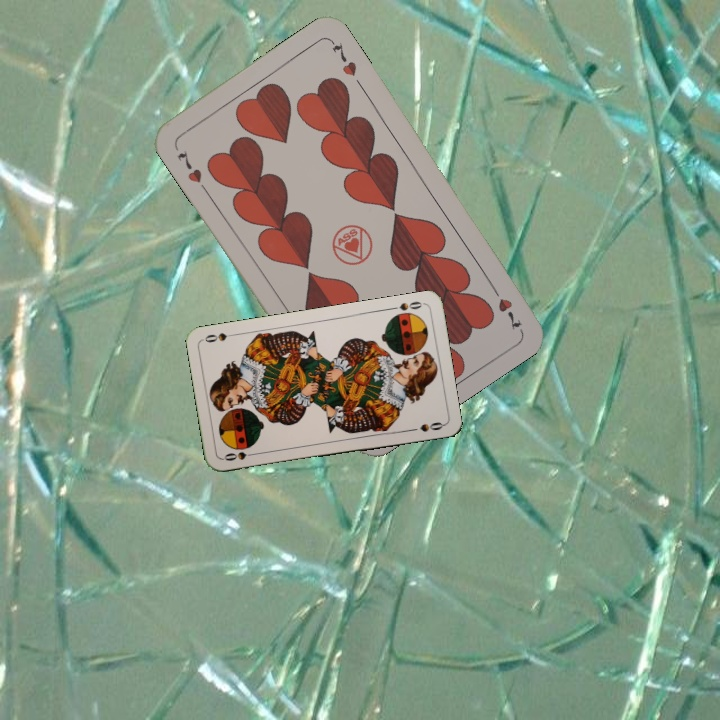H7: (487, 280, 525, 333), (173, 146, 205, 186)
SO: (386, 297, 427, 313), (219, 448, 260, 463)
